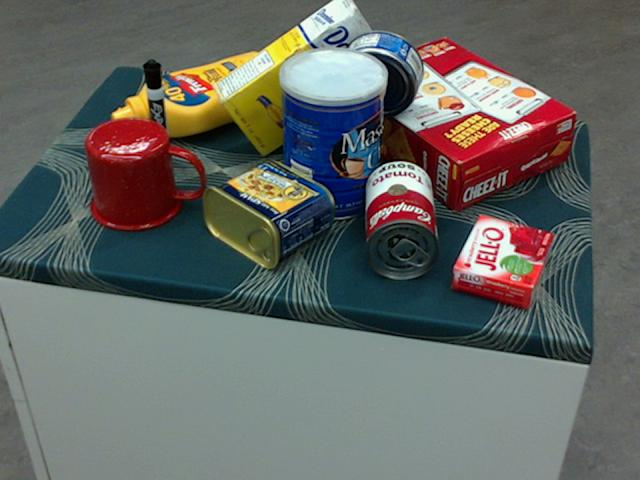cracker_box: (334, 36, 573, 211)
gelatin_box: (451, 214, 551, 306)
large_marker: (141, 59, 172, 166)
master_chef_can: (278, 48, 386, 222)
mug: (85, 116, 203, 231)
mustard_bottle: (109, 51, 284, 136)
potted_meat_can: (200, 159, 333, 268)
sugar_box: (209, 0, 393, 157)
tomato_soup_can: (362, 159, 437, 278)
tuna_fish_can: (337, 29, 423, 115)
